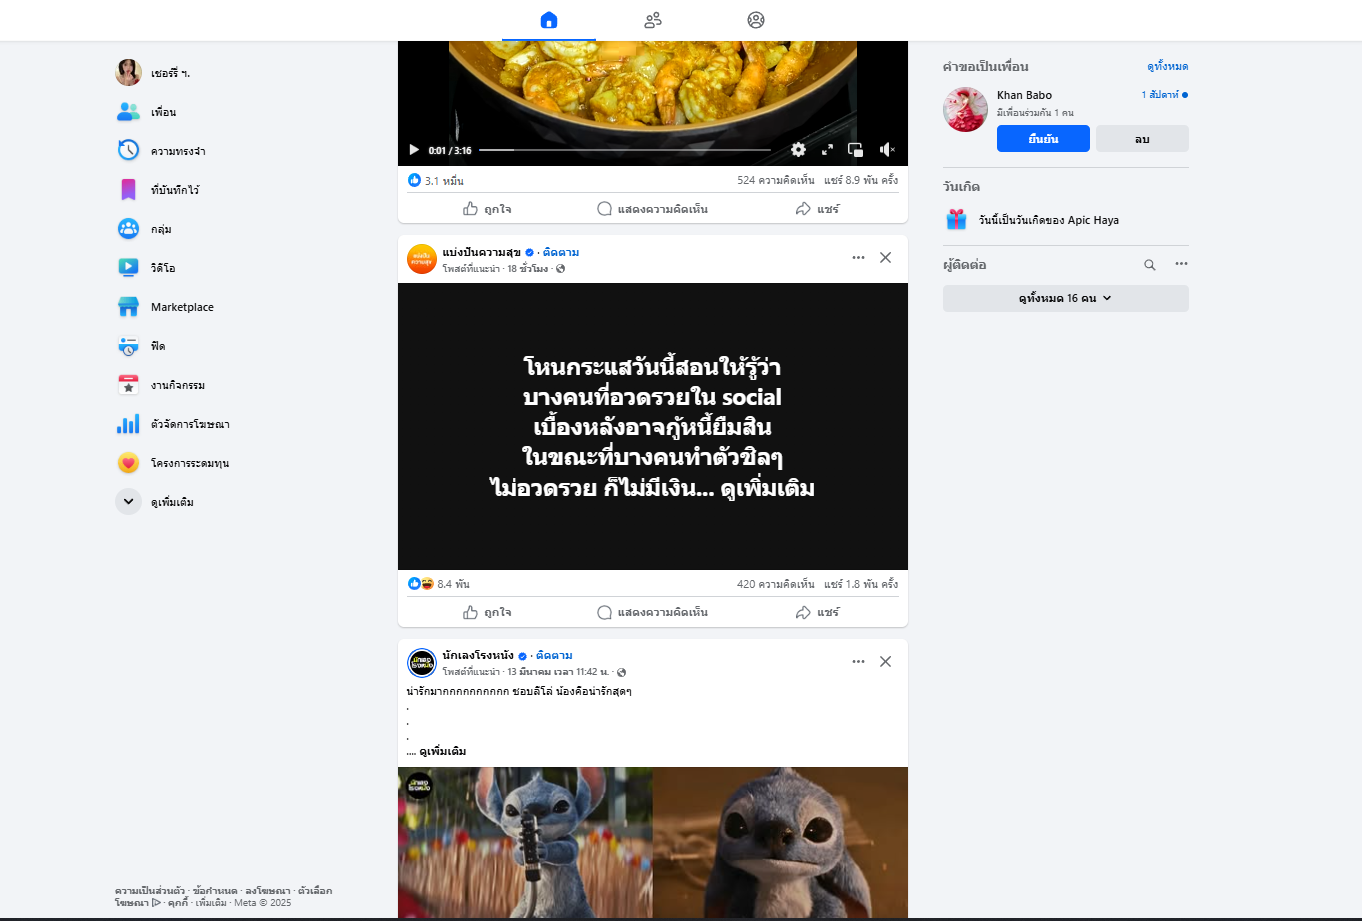topic: (397, 232, 908, 629), (396, 640, 908, 920), (396, 40, 909, 224)
